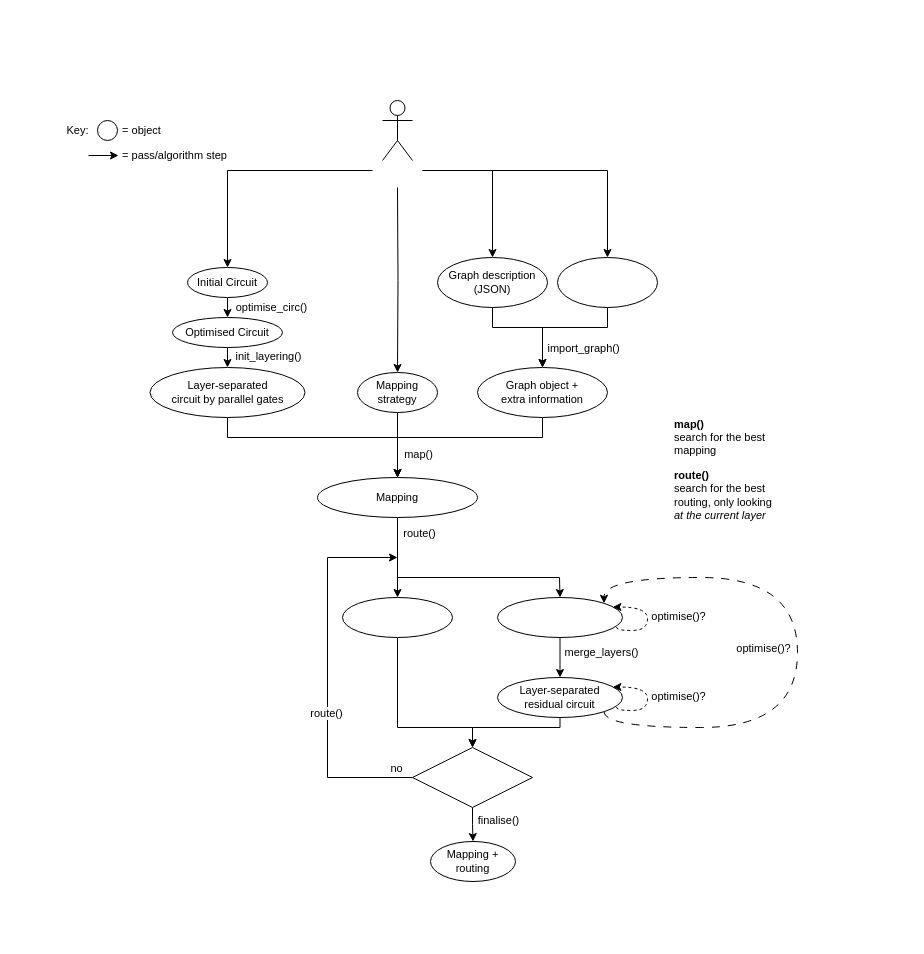
Some shapes in this 924 by 954 pixel diagram are drawn without their labels. The centre of each missing label's shape, as x and y in pixels:
Graph storage strategy: pixel 607 282
is routing complete?: pixel 472 777
Partial Routing: pixel 397 617
Residual gates + next layers: pixel 559 617
User: pixel 397 130
